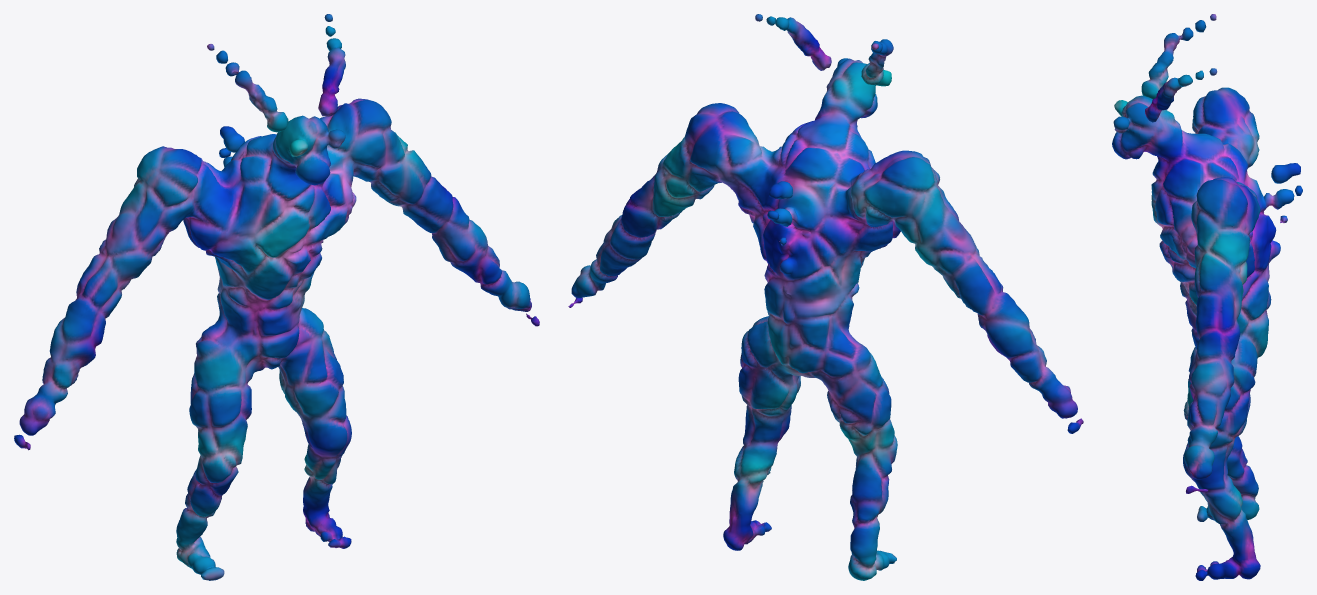
Rendered from wb_ash_fiend.glb.
3 views of the same model, side by side, from view 1: azimuth 30°, elevation 25°; view 2: azimuth 150°, elevation 25°; view 3: azimuth 270°, elevation 25° (orthographic). The views are drawn at different scales.
Parts seen in each view (by area): view 1: wb_ash_fiend; view 2: wb_ash_fiend; view 3: wb_ash_fiend.
Part boxes in pixels (x1,y1,x2,y2): wb_ash_fiend: (14, 14, 539, 580); wb_ash_fiend: (568, 14, 1083, 580); wb_ash_fiend: (1112, 14, 1302, 580).
Size of the model in its own units: 2.46 by 2.42 by 0.8233.
